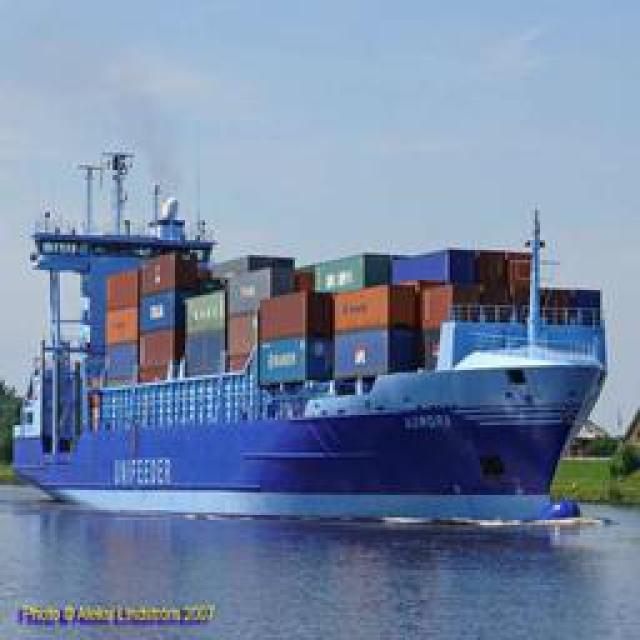Ship: (20, 154, 620, 527)
